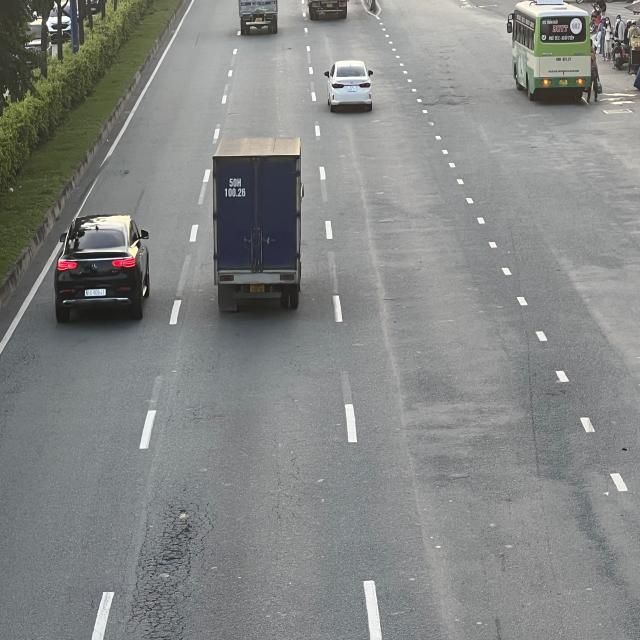car: (56, 217, 154, 326), (324, 59, 376, 114)
coach: (510, 3, 596, 99)
truck: (213, 136, 306, 309)
